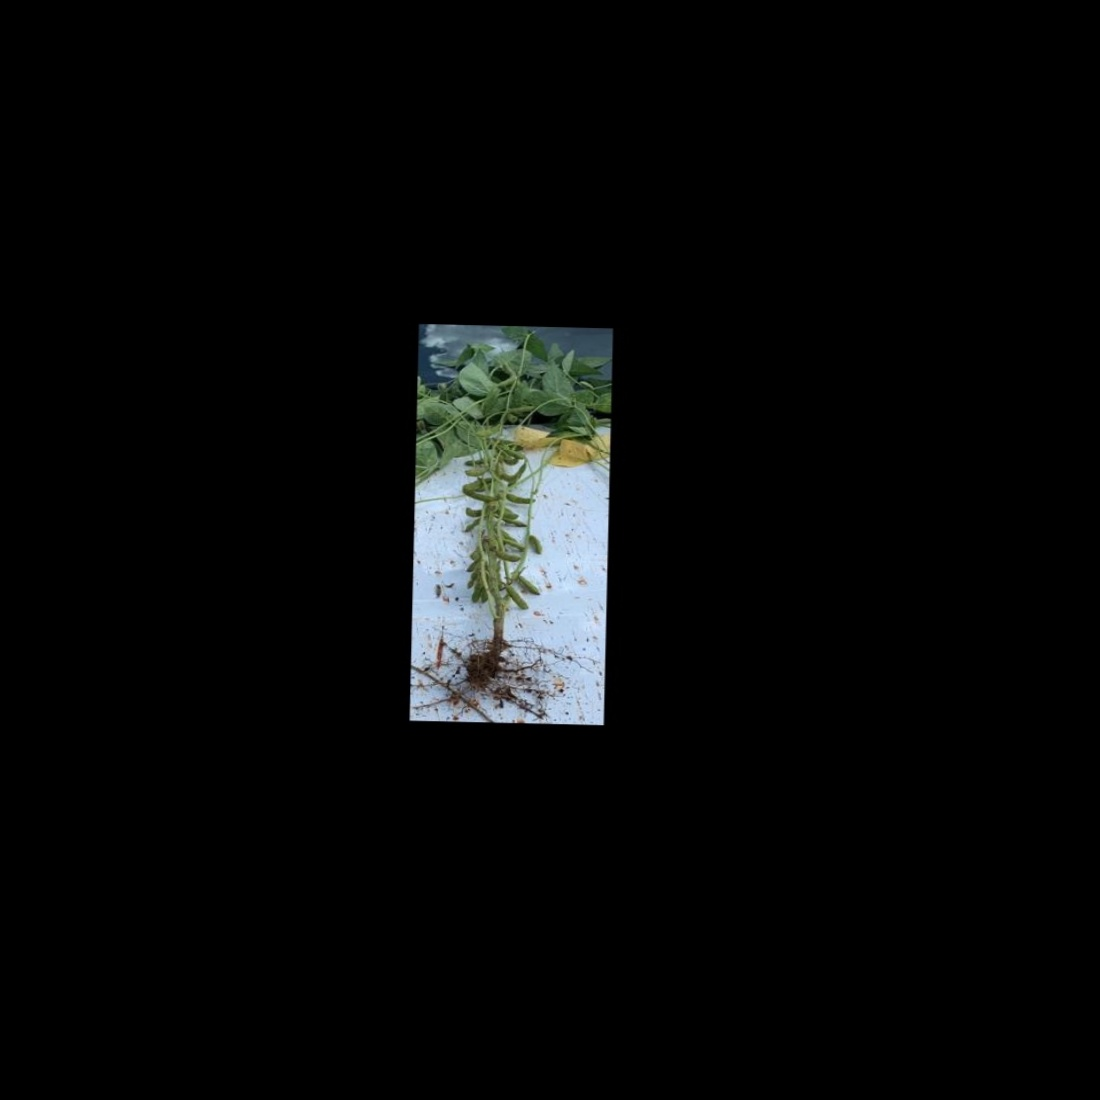pod: (503, 582, 531, 613), (503, 490, 538, 508), (516, 573, 542, 597), (490, 547, 521, 563), (459, 489, 495, 503), (527, 534, 544, 557), (462, 570, 482, 590), (461, 465, 491, 477)
soy: (424, 328, 597, 705)
